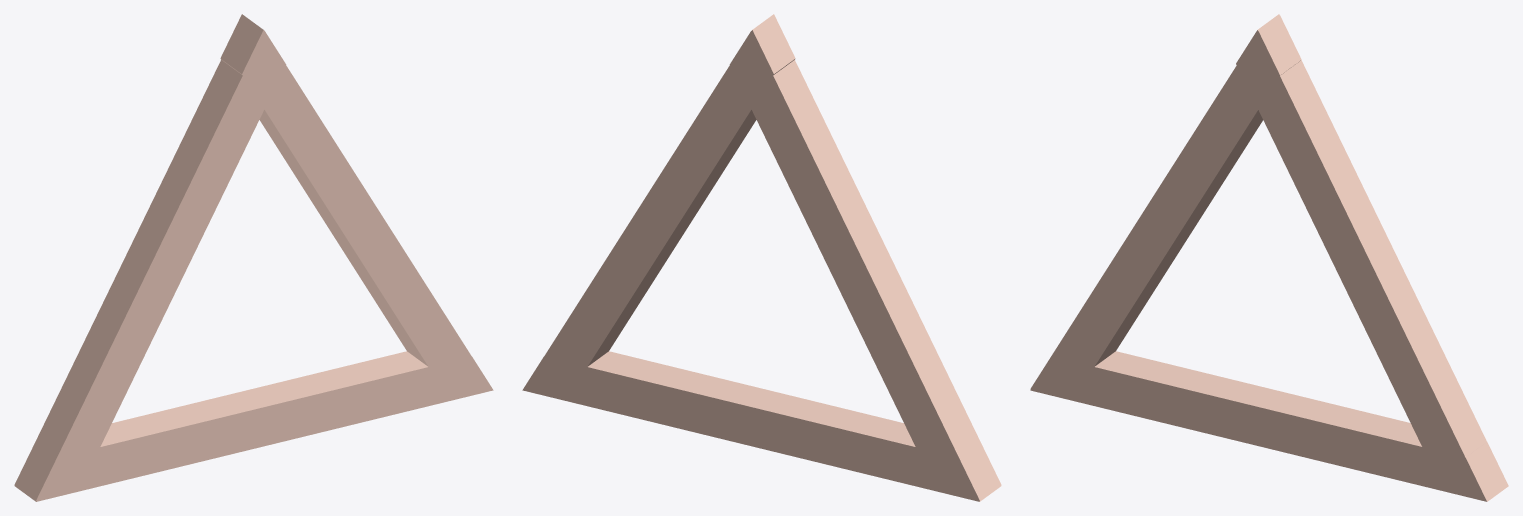
The model's file is Triangle1.gltf.
3 renders of one model, left to right at view 1: azimuth 30°, elevation 25°; view 2: azimuth 150°, elevation 25°; view 3: azimuth 330°, elevation 25°, orthographic.
Parts seen in each view (by area): view 1: Cube; view 2: Cube; view 3: Cube.
Boxes of the visible parts, x1=… form: Cube: x1=14, y1=14, x2=493, y2=501; Cube: x1=522, y1=14, x2=1001, y2=501; Cube: x1=1030, y1=14, x2=1508, y2=501.
Bounding box in the file's own units: 24.44 × 21.26 × 2.
